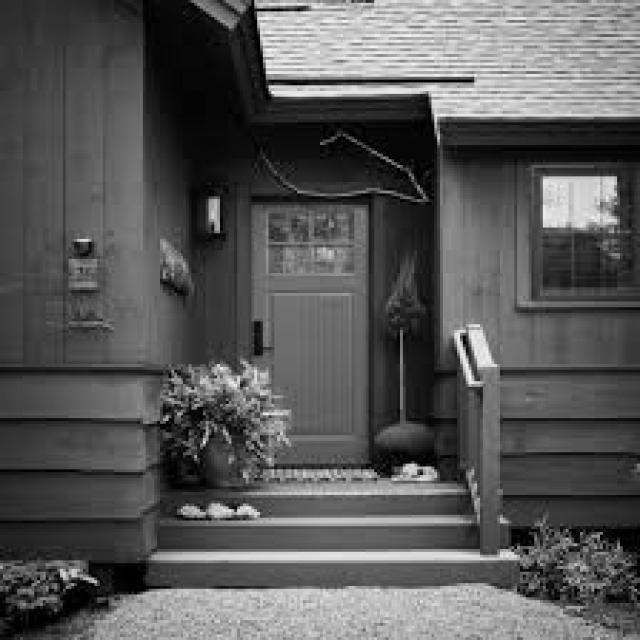stair: (146, 481, 516, 588)
